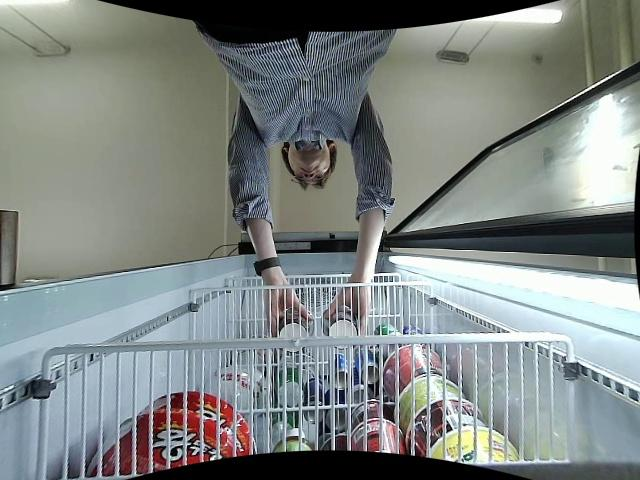00_hand: (265, 278, 313, 340), (323, 283, 370, 334)
08_buldak_S: (273, 309, 310, 352), (322, 306, 356, 349)
